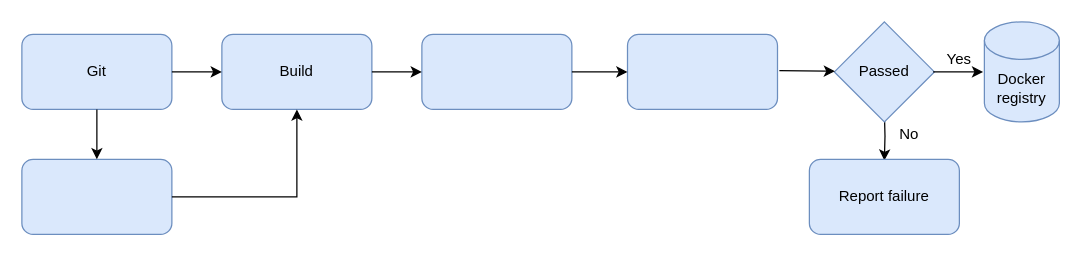
This 1081x256 diagram has some shape labels left out. Here are the shapes that lost their labels. From the top down, the box of each, then its label:
(421, 33, 572, 109): Deploy
(626, 33, 778, 109): Test
(21, 158, 172, 234): Test env
